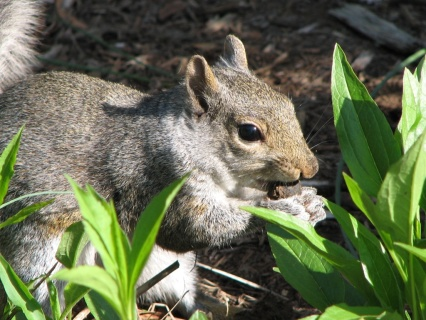Squirrel: (0, 0, 341, 319)
